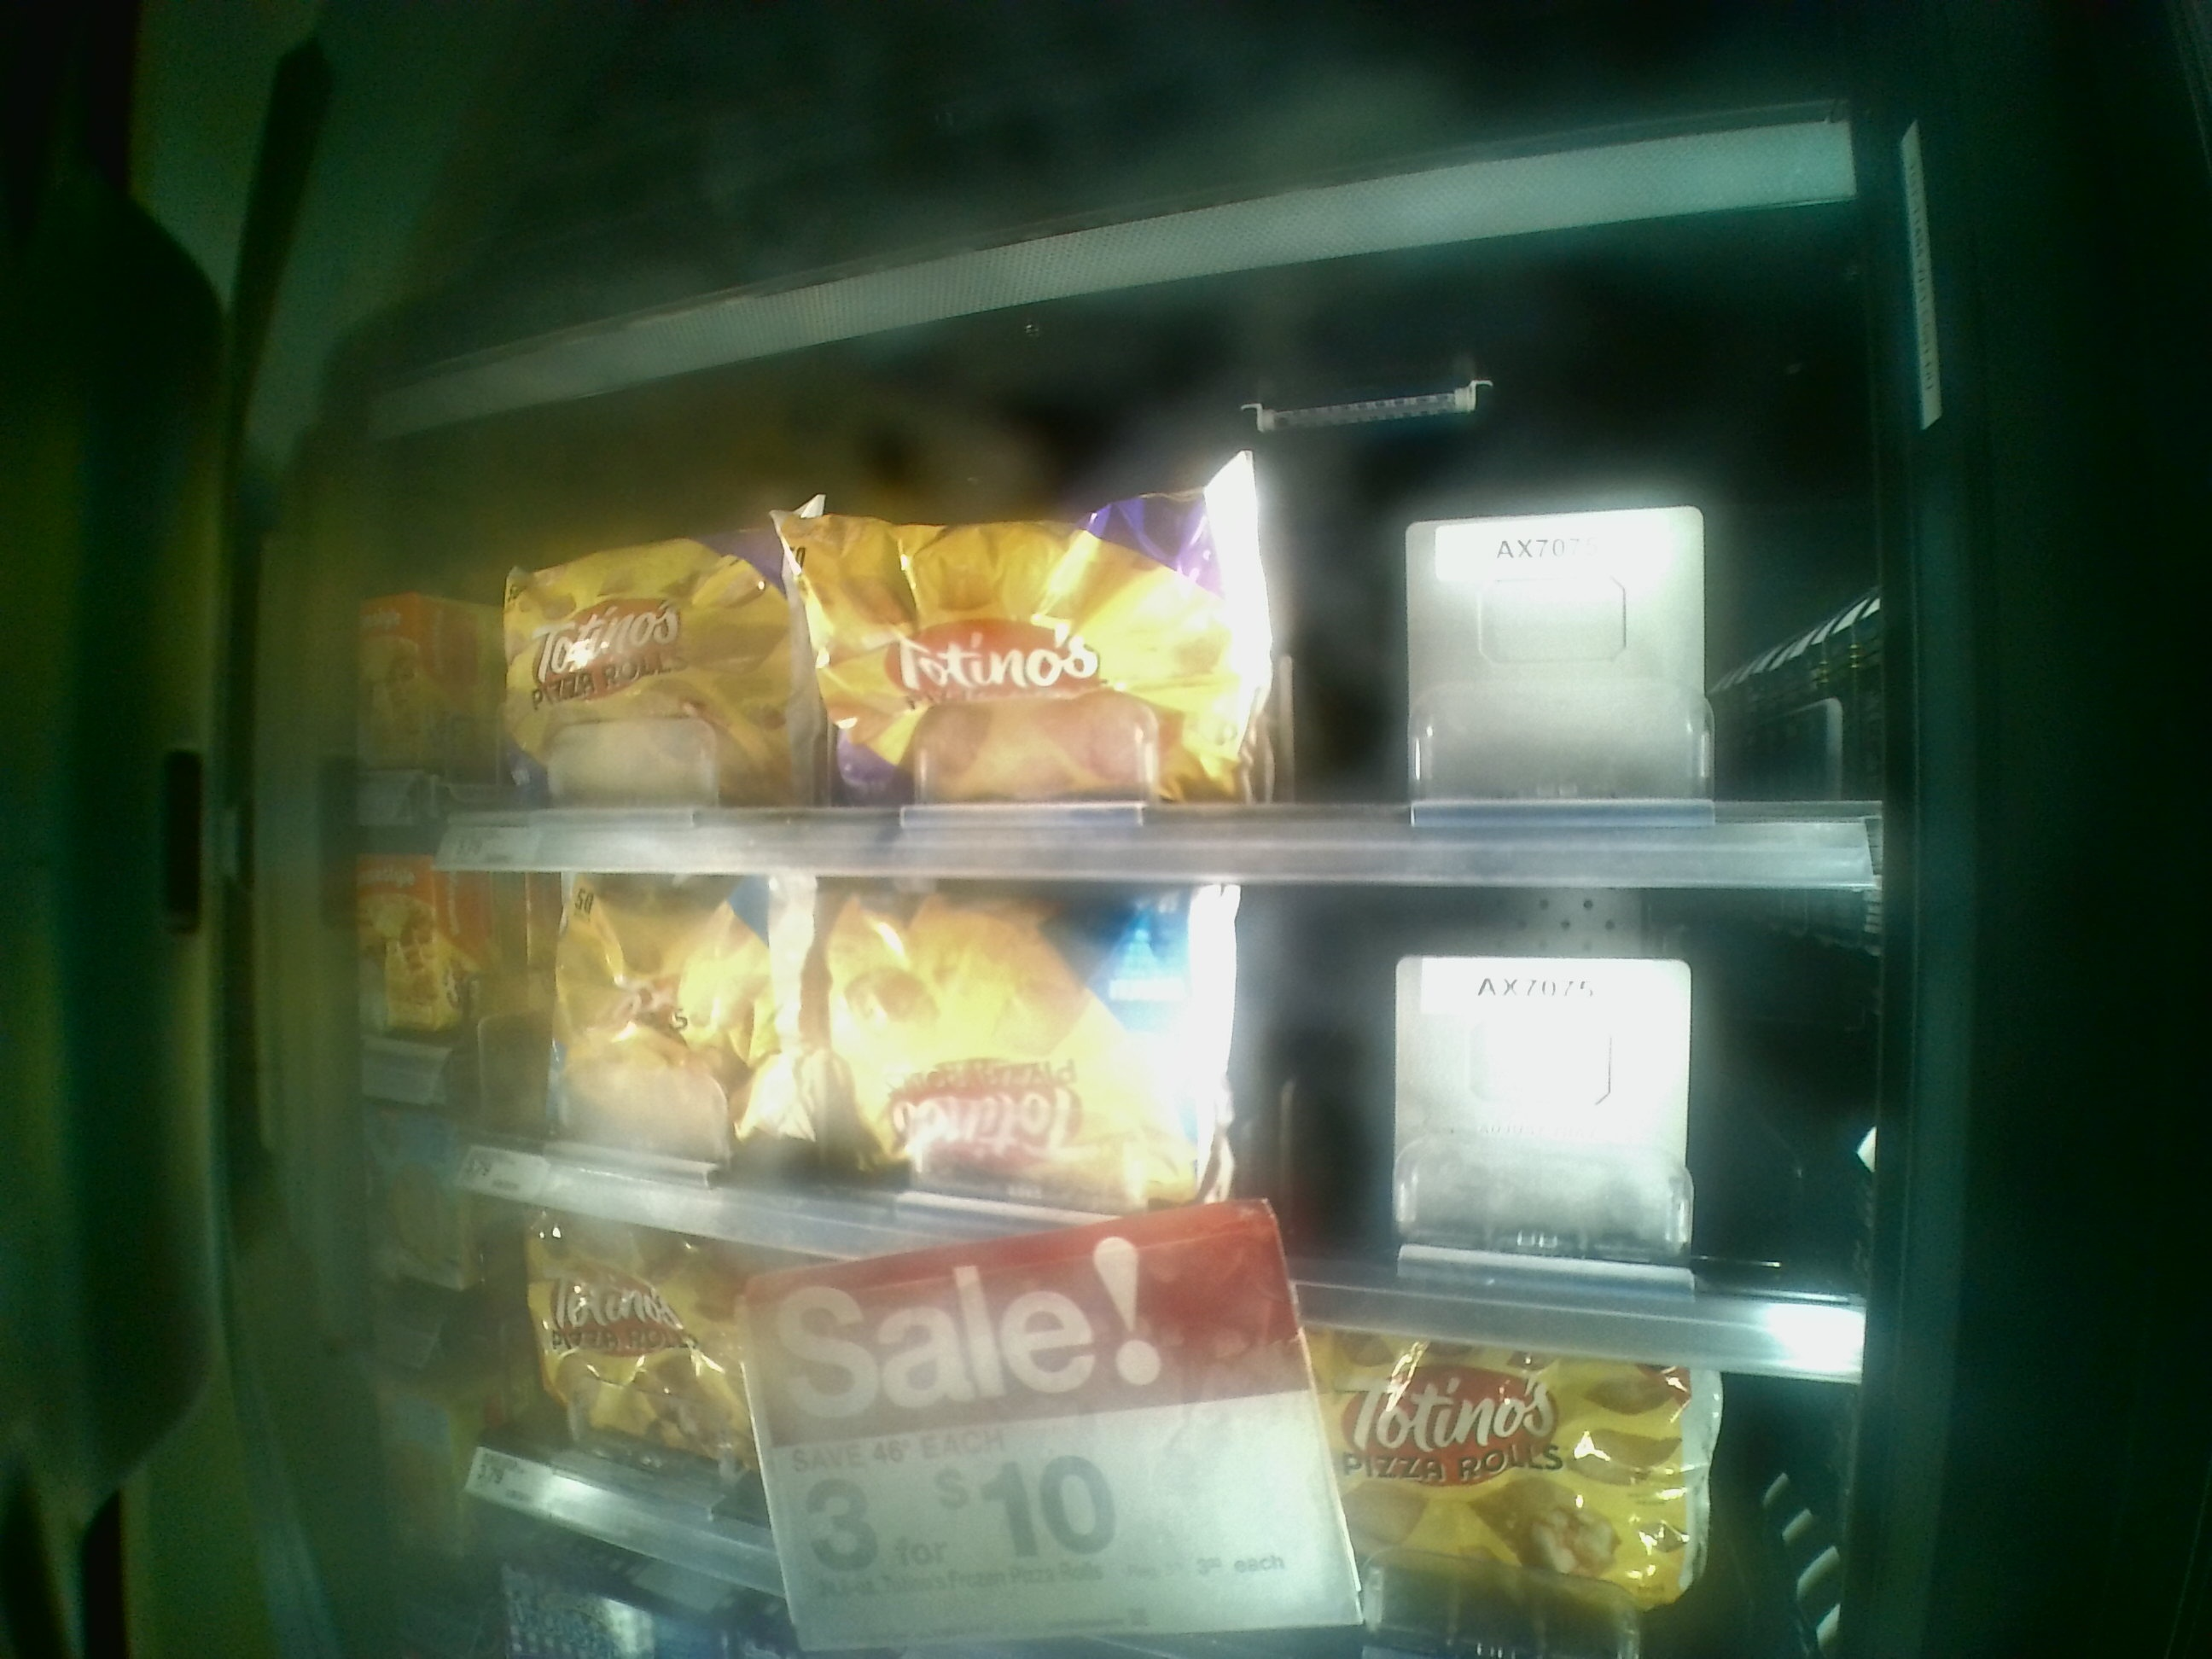shelf: (334, 870, 1878, 1385), (354, 479, 1881, 889)
